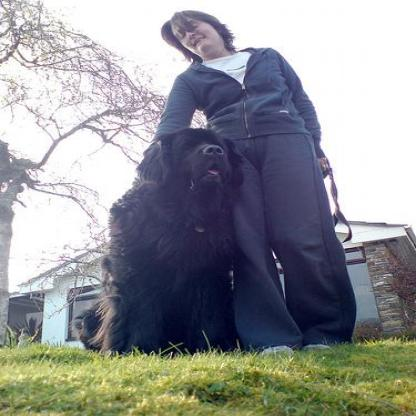Newfoundland: (69, 127, 240, 348)
